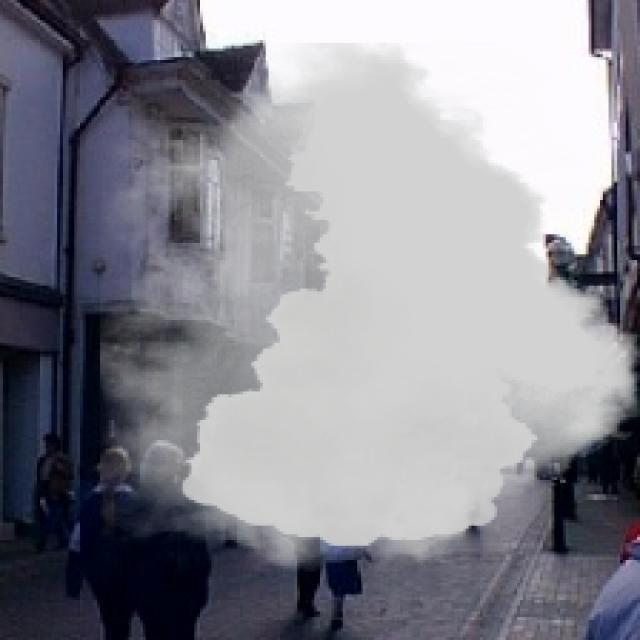no_helmet: (100, 43, 637, 574)
